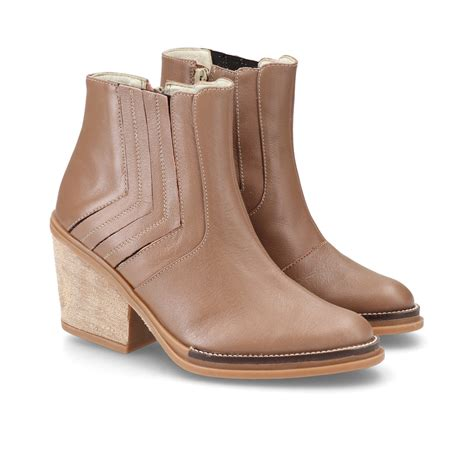cuero: (51, 47, 416, 362)
